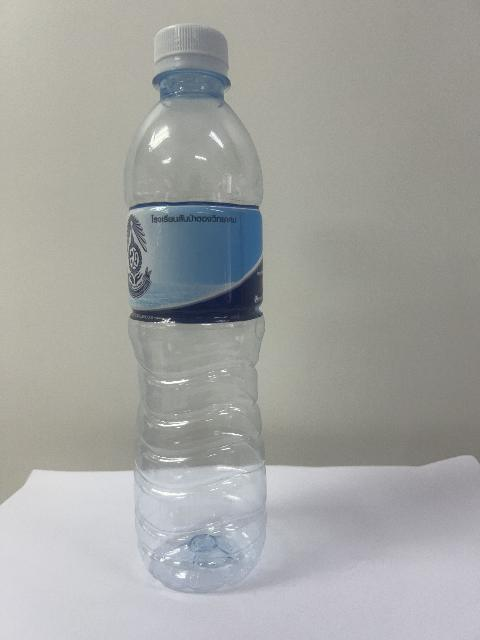bottle: (125, 24, 266, 590)
